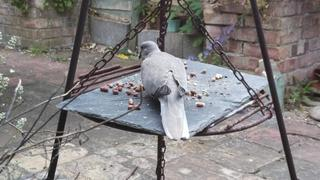collared dove: (138, 41, 190, 141)
